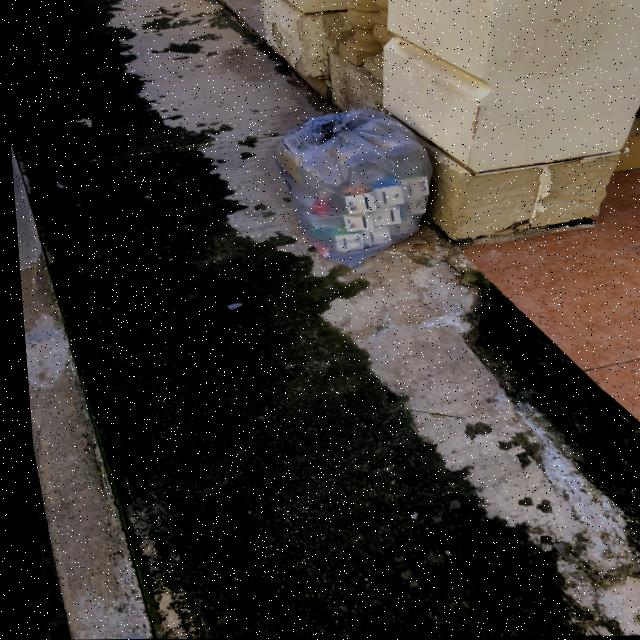Organic Waste -White Bag-: (277, 112, 434, 271)
